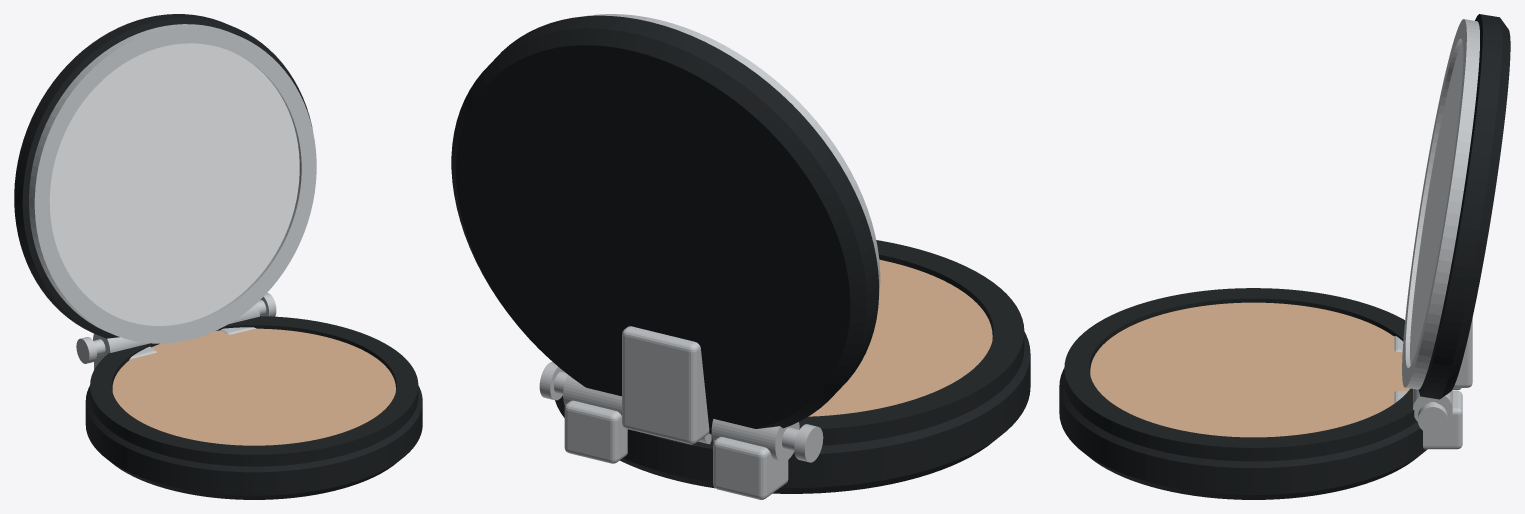
The model's file is A-NEW-20261026-HINGED-POWDER-COMPACT-001_LOD0_R3.glb.
3 views of the same model, side by side, from view 1: azimuth 30°, elevation 25°; view 2: azimuth 150°, elevation 25°; view 3: azimuth 270°, elevation 25° (orthographic). The views are drawn at different scales.
Parts seen in each view (by area): view 1: inset reflective mirror, inset powder pan, mirror surrounding rim, raised rounded powder rim, compact base, round lid backing, base hinge knuckle, hinge pin end cap; view 2: round lid backing, compact base, inset powder pan, raised rounded powder rim, lid hinge leaf, base hinge leaf, base hinge leaf.001, mirror surrounding rim, base hinge knuckle, base hinge knuckle.001, hinge pin end cap; view 3: inset powder pan, raised rounded powder rim, compact base, round lid backing, mirror surrounding rim, inset reflective mirror, base hinge leaf.001, hinge pin end cap.001, lid hinge leaf, base hinge knuckle.001.
Boxes of the visible parts, x1,y1,x2,y2 form: inset reflective mirror: (49, 43, 299, 325); inset powder pan: (112, 328, 395, 445); mirror surrounding rim: (29, 24, 316, 343); raised rounded powder rim: (90, 316, 418, 466); compact base: (85, 385, 422, 499); round lid backing: (14, 14, 312, 338); base hinge knuckle: (93, 333, 149, 360); hinge pin end cap: (76, 337, 96, 363); round lid backing: (451, 15, 878, 434); compact base: (555, 331, 1030, 493); inset powder pan: (808, 259, 992, 416); raised rounded powder rim: (711, 240, 1024, 445); lid hinge leaf: (622, 326, 709, 444); base hinge leaf: (713, 437, 788, 499); base hinge leaf.001: (564, 400, 627, 463); mirror surrounding rim: (585, 14, 880, 296); base hinge knuckle: (711, 419, 799, 461); base hinge knuckle.001: (563, 374, 621, 415); hinge pin end cap: (794, 424, 823, 462); inset powder pan: (1090, 302, 1410, 437); raised rounded powder rim: (1064, 288, 1416, 461); compact base: (1059, 368, 1427, 499); round lid backing: (1418, 14, 1510, 399); mirror surrounding rim: (1402, 19, 1479, 389); inset reflective mirror: (1410, 42, 1463, 365); base hinge leaf.001: (1394, 391, 1462, 449); hinge pin end cap.001: (1418, 403, 1447, 433); lid hinge leaf: (1453, 318, 1472, 387); base hinge knuckle.001: (1413, 389, 1452, 421).
Bounding box in the file's own units: 0.078 × 0.0874 × 0.0906.
